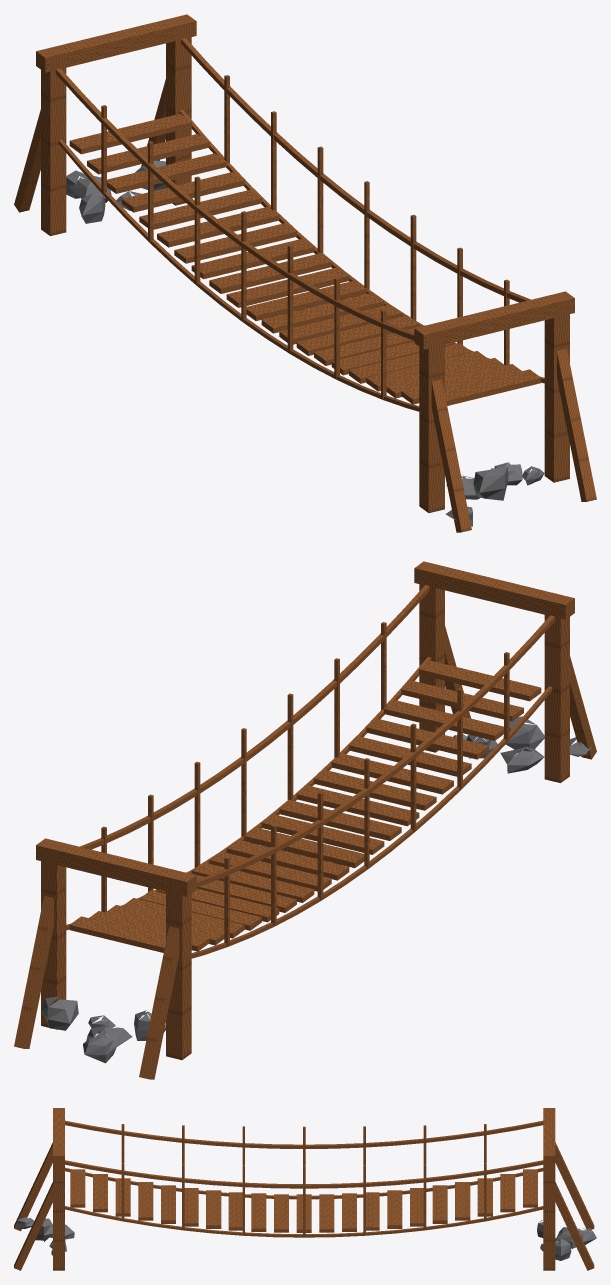
Rendered from manta_ray.glb.
The picture shows the model from 3 angles, top to bottom: view 1: azimuth 30°, elevation 25°; view 2: azimuth 150°, elevation 25°; view 3: azimuth 270°, elevation 25°; orthographic projection. The views are drawn at different scales.
Visible parts, largest first — view 1: volcano-and-lava-fields-rope-bridge-over-fissure; view 2: volcano-and-lava-fields-rope-bridge-over-fissure; view 3: volcano-and-lava-fields-rope-bridge-over-fissure.
Part boxes in pixels (left/top/right/bottom): volcano-and-lava-fields-rope-bridge-over-fissure: left=14, top=14, right=596, bottom=532; volcano-and-lava-fields-rope-bridge-over-fissure: left=14, top=561, right=596, bottom=1079; volcano-and-lava-fields-rope-bridge-over-fissure: left=14, top=1108, right=596, bottom=1270.
Size of the model in its own units: 1.5 by 1.72 by 7.73.
2 materials, 2 textured.
